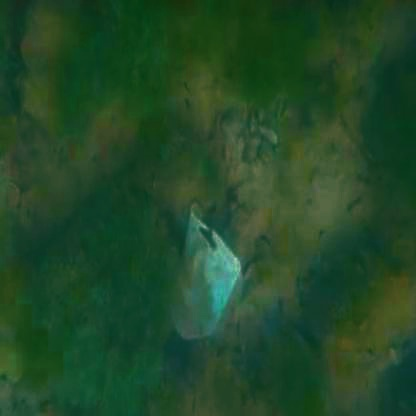plastic: (161, 204, 254, 356)
